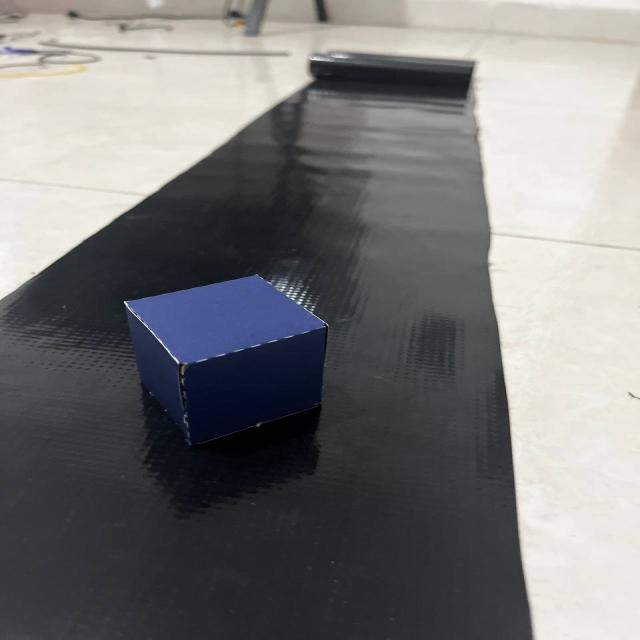Azul: (102, 261, 349, 467)
